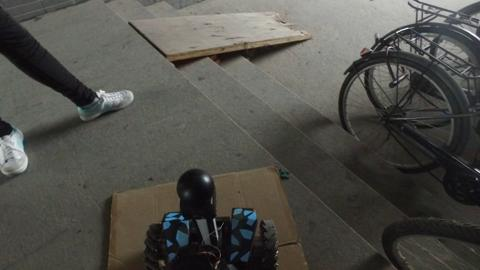chariot: (144, 169, 282, 269)
